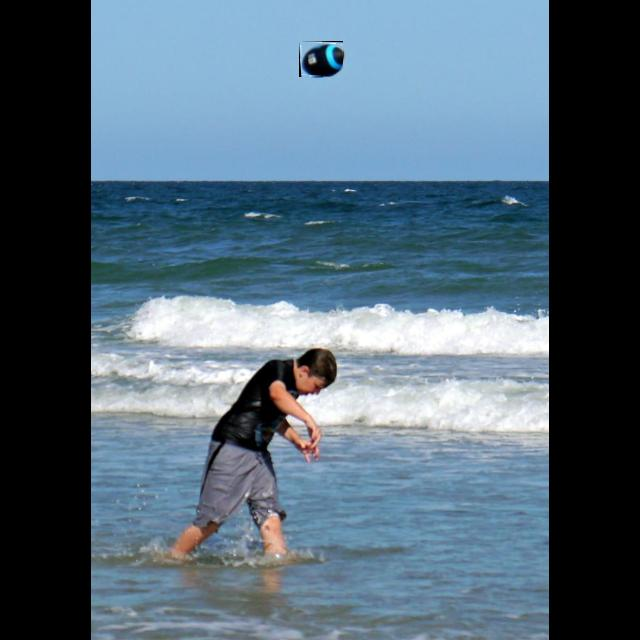Football: (299, 41, 343, 77)
